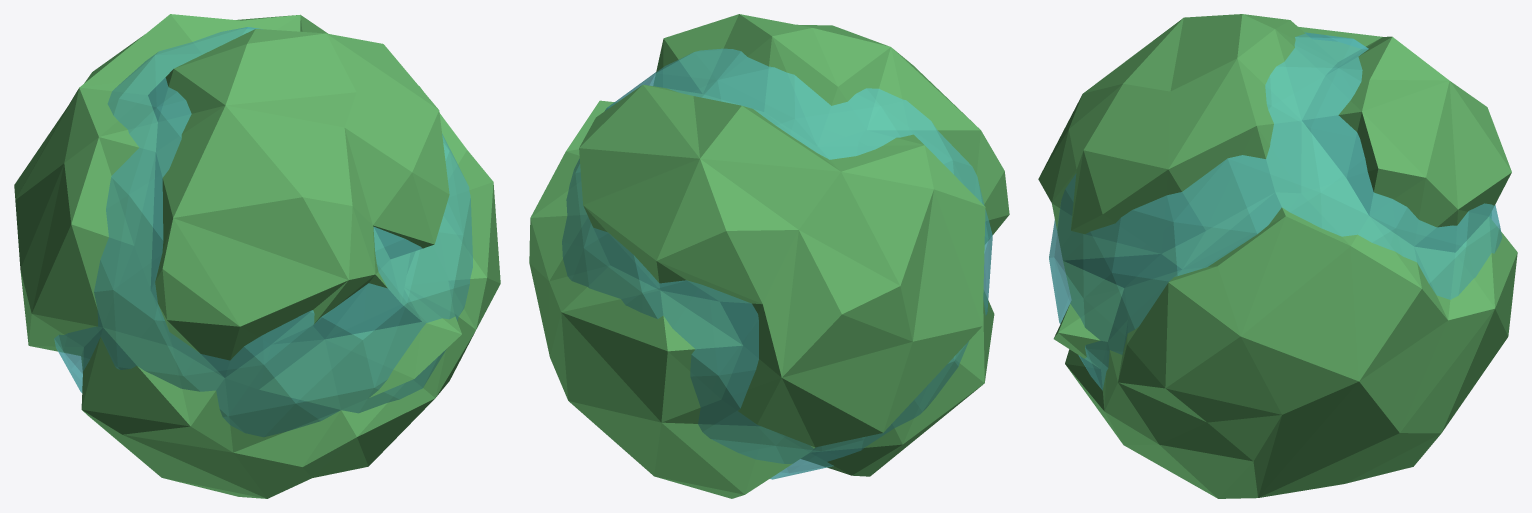
File: earth_like_planet4.fbx
The picture shows the model from 3 angles, left to right: view 1: azimuth 30°, elevation 25°; view 2: azimuth 150°, elevation 25°; view 3: azimuth 270°, elevation 25°; orthographic projection. The views are drawn at different scales.
Visible parts, largest first — view 1: earth_like_planet4; view 2: earth_like_planet4; view 3: earth_like_planet4.
Part boxes in pixels (x1,y1,x2,y2): earth_like_planet4: (14,14,500,498); earth_like_planet4: (529,14,1009,498); earth_like_planet4: (1038,14,1517,498).
Bounding box in the file's own units: 210 × 209 × 202.
